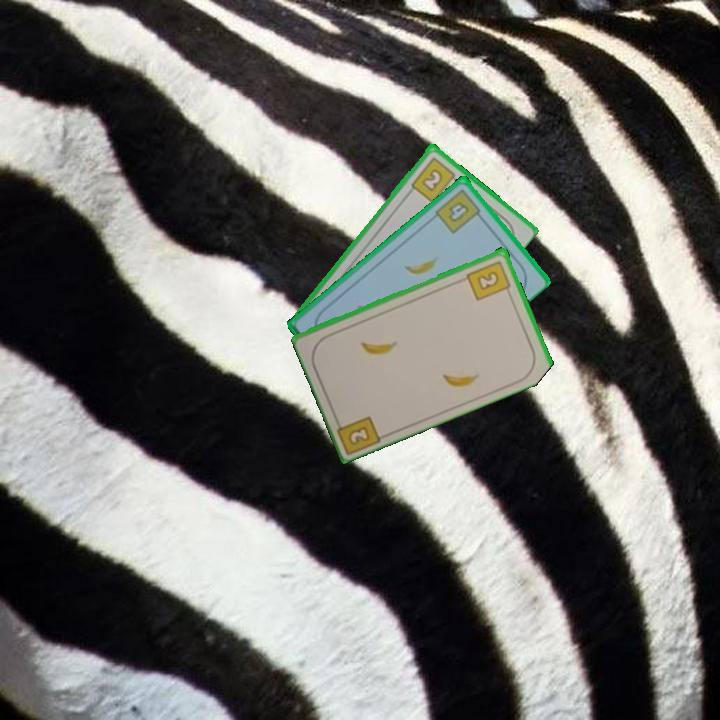2b: (407, 153, 462, 205), (463, 257, 514, 303), (331, 412, 385, 455)
4b: (432, 185, 486, 236)
